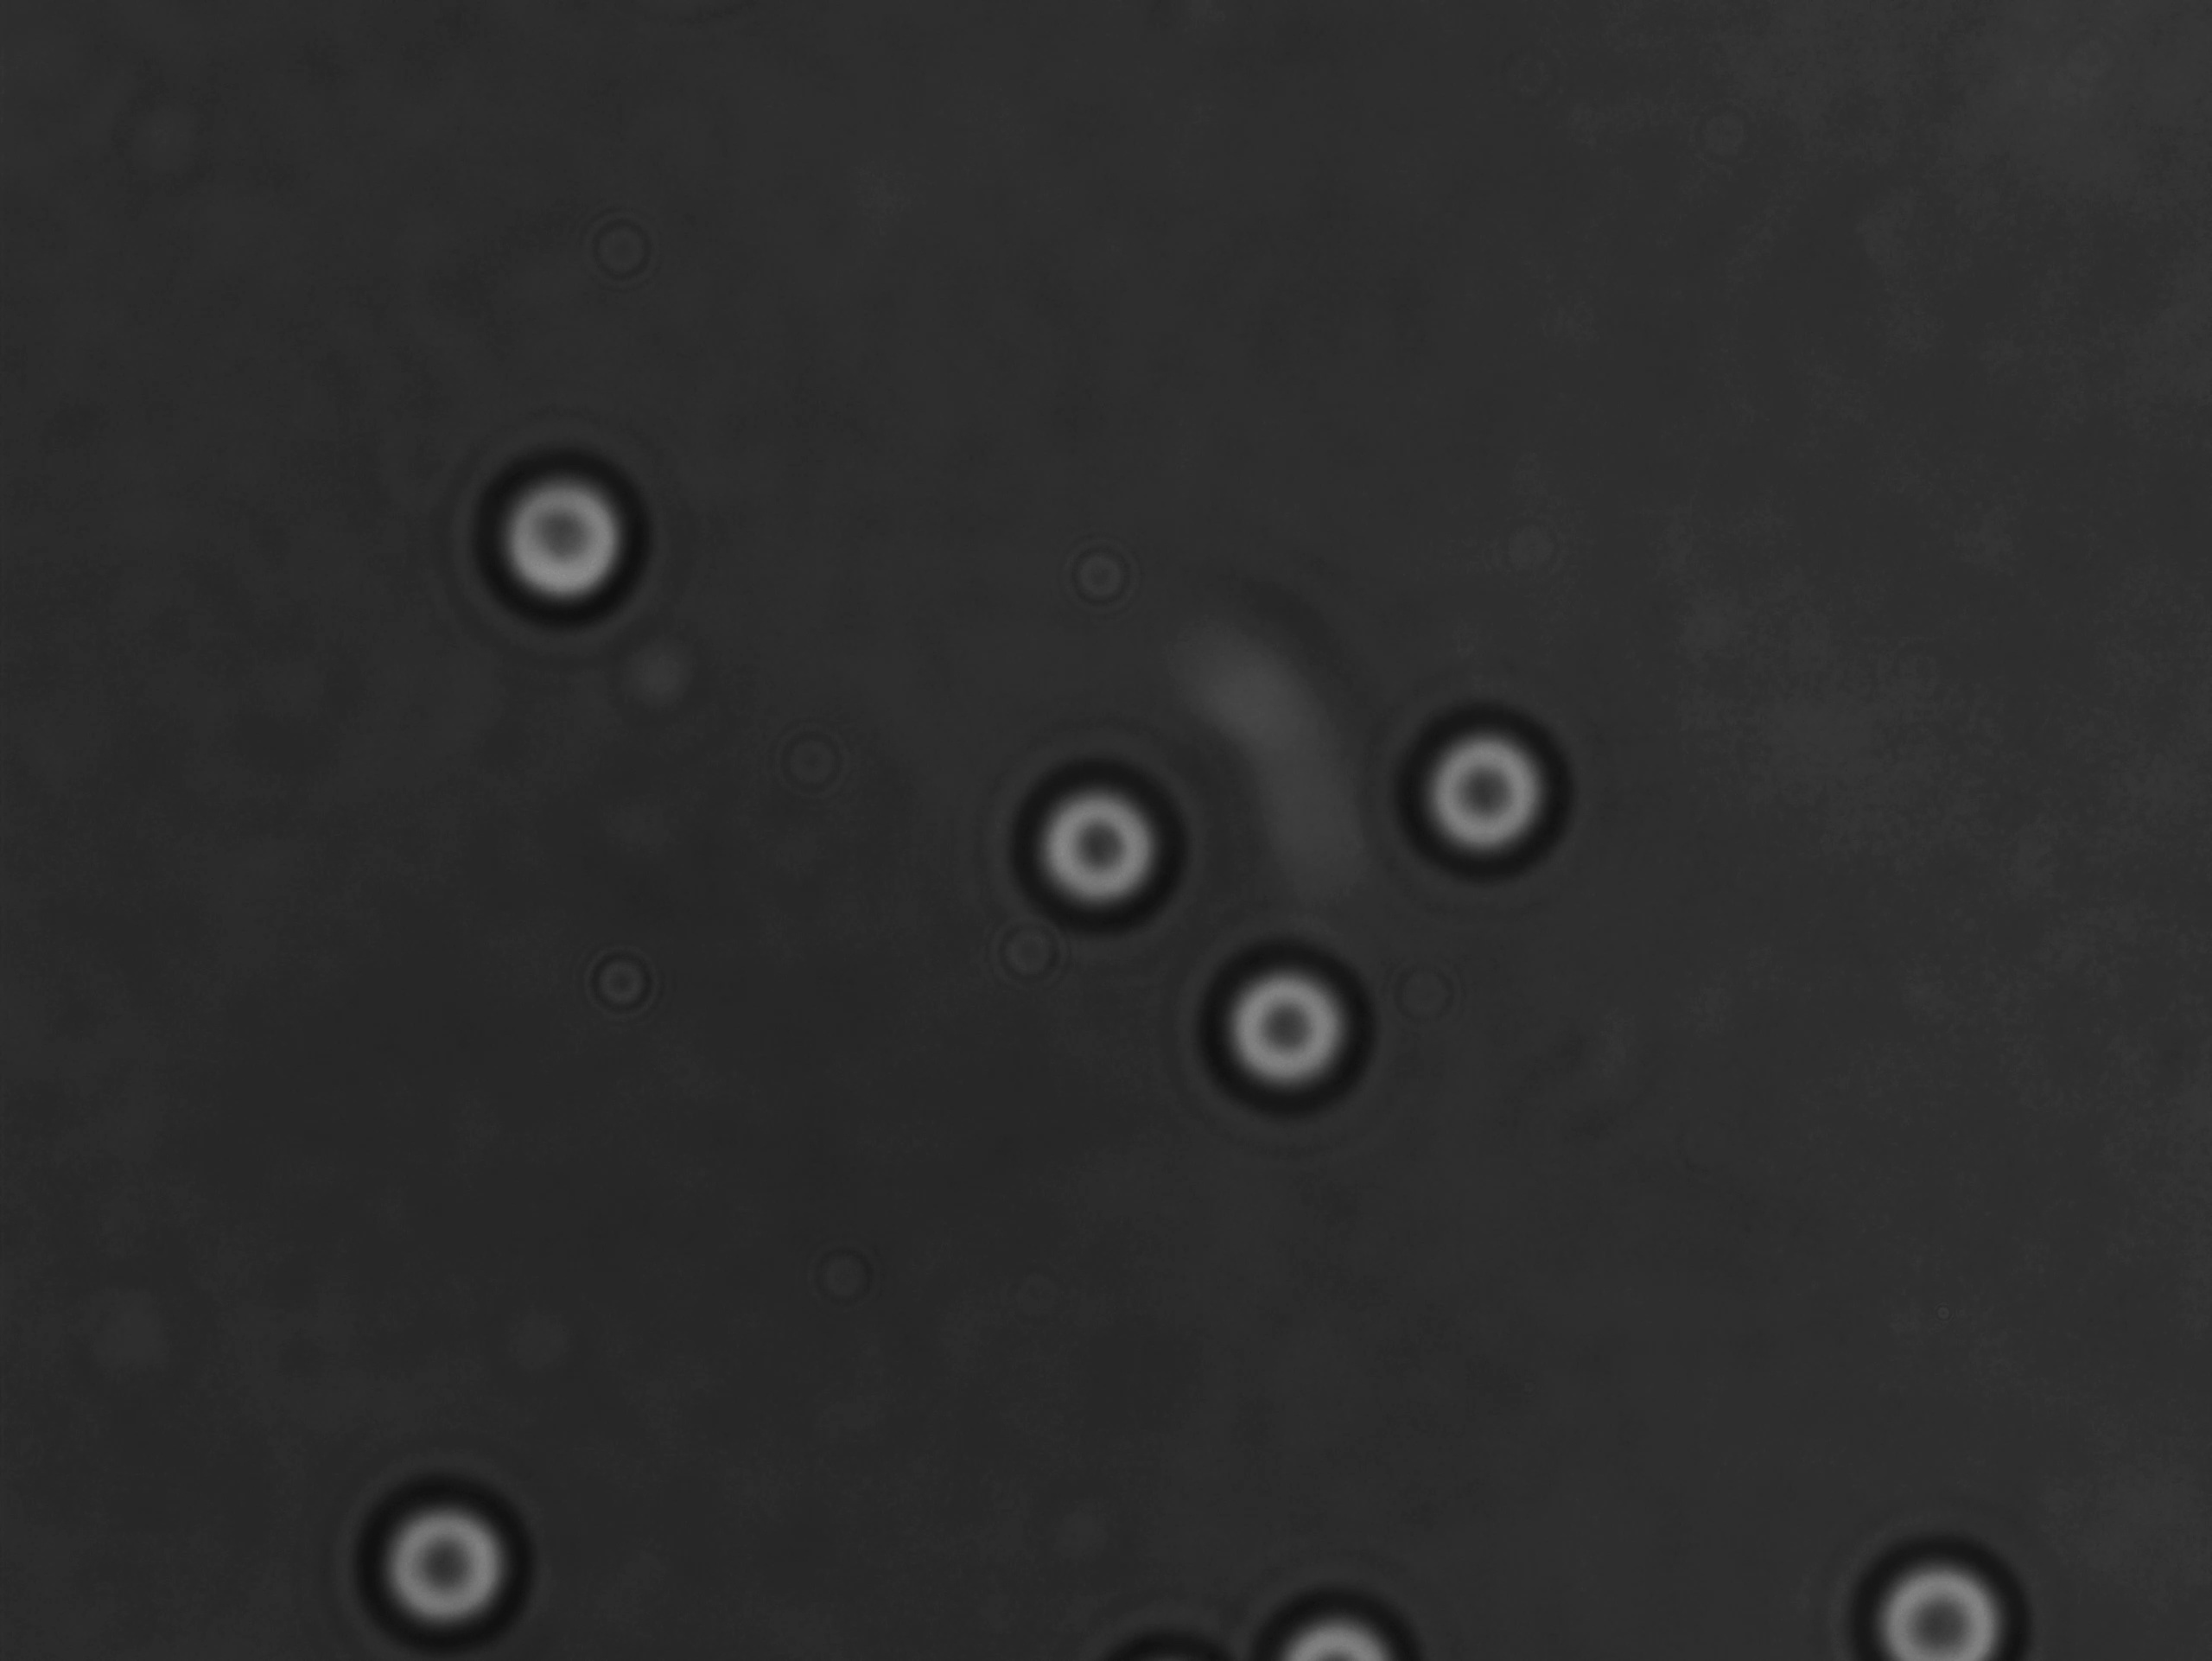depth:80: (461, 419, 679, 647), (1383, 679, 1601, 902), (998, 740, 1219, 937), (1178, 933, 1399, 1131), (344, 1452, 553, 1654), (1828, 1521, 2050, 1661)
